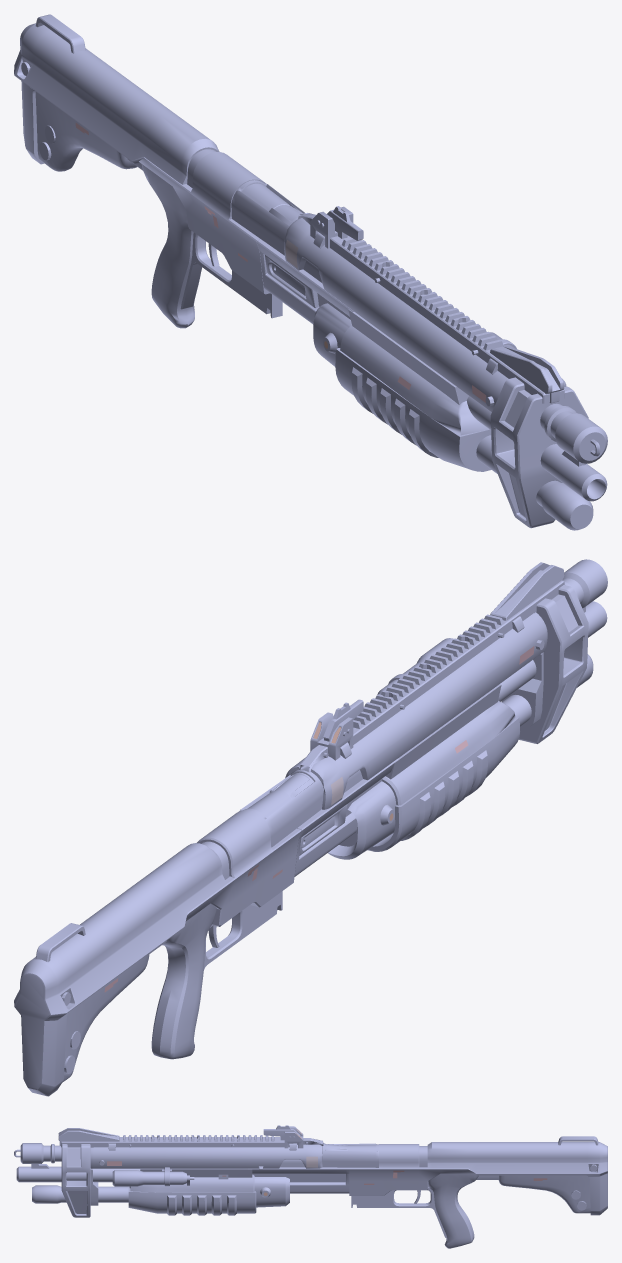
Rendered from M45E Brash Whisper.fbx.
3 renders of one model, top to bottom at view 1: azimuth 30°, elevation 25°; view 2: azimuth 150°, elevation 25°; view 3: azimuth 270°, elevation 25°, orthographic. The views are drawn at different scales.
Parts seen in each view (by area): view 1: w_pumpshotgun_a_w_emile_shotgun; view 2: w_pumpshotgun_a_w_emile_shotgun; view 3: w_pumpshotgun_a_w_emile_shotgun.
Part boxes in pixels (bbox=[...]): w_pumpshotgun_a_w_emile_shotgun: bbox=[14, 14, 607, 530]; w_pumpshotgun_a_w_emile_shotgun: bbox=[14, 559, 607, 1096]; w_pumpshotgun_a_w_emile_shotgun: bbox=[14, 1125, 607, 1248].
Size of the model in its own units: 375 by 829 by 3653.
